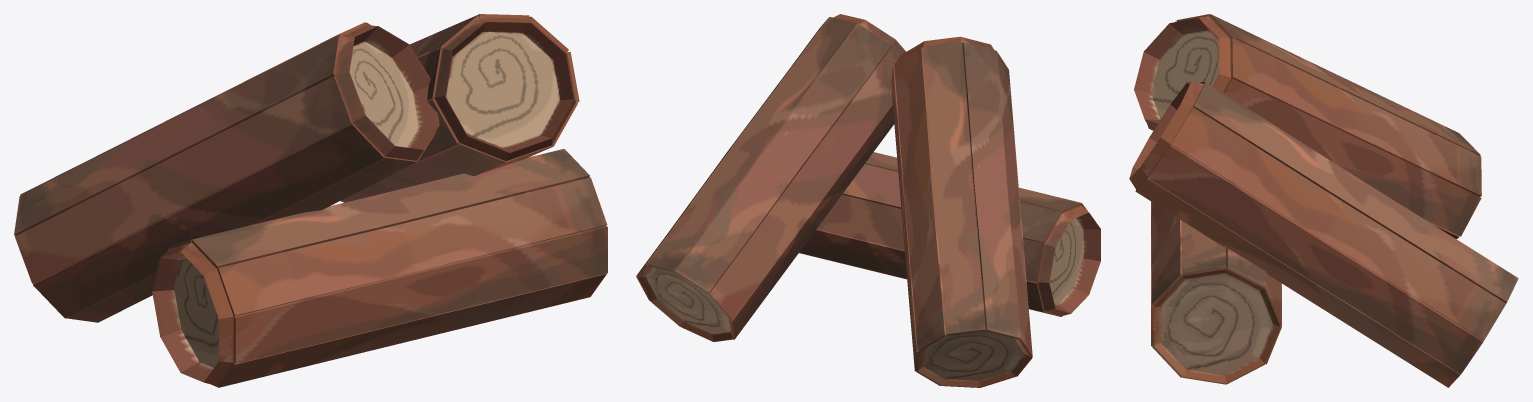
Rendered from FireWood.fbx.
3 renders of one model, left to right at view 1: azimuth 30°, elevation 25°; view 2: azimuth 150°, elevation 25°; view 3: azimuth 270°, elevation 25°, orthographic. The views are drawn at different scales.
Parts seen in each view (by area): view 1: Cylinder.008; view 2: Cylinder.008; view 3: Cylinder.008.
Part boxes in pixels (left/top/right/bottom): Cylinder.008: left=14, top=14, right=607, bottom=387; Cylinder.008: left=636, top=14, right=1100, bottom=387; Cylinder.008: left=1129, top=14, right=1518, bottom=387.
Size of the model in its own units: 608 by 421 by 513.
Materials: 1 (1 with a texture image).
